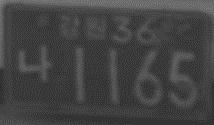1: (66, 48, 96, 103), (102, 48, 129, 105)
3: (110, 15, 133, 43)
5: (167, 50, 200, 108)
6: (134, 49, 163, 107), (136, 16, 158, 45)
강원_O: (58, 14, 109, 41)
나: (18, 45, 52, 82)
